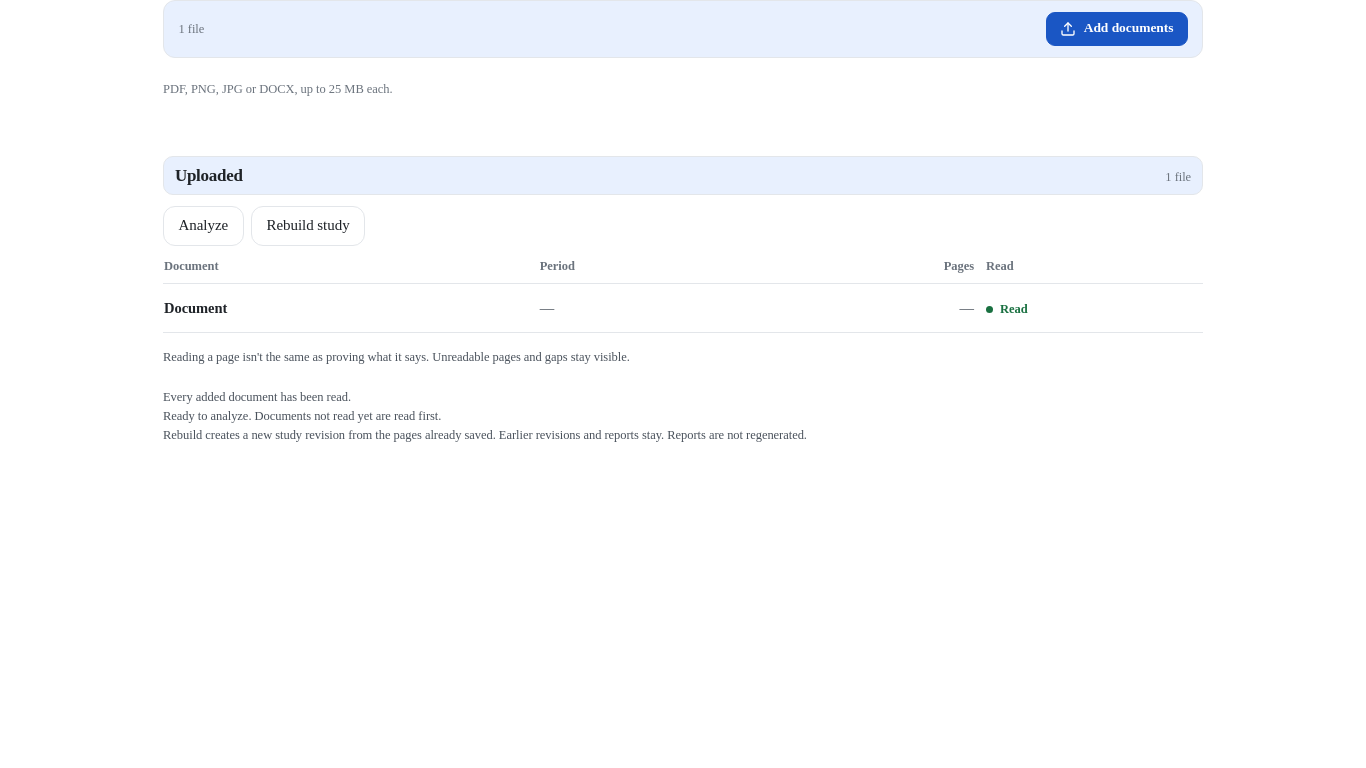
Test: DocumentsPanel — Analyze › reuses the compatible Study, preserves the existing report, and polls only the missing Writer run when one report failed
Expected: the text "Ready to analyze. Documents not read yet are read first." is shown, left=163, top=409, right=441, bottom=423
Click the button with test id "analyze-button": (203, 226) left=163, top=206, right=244, bottom=246
Wait 3000 ms
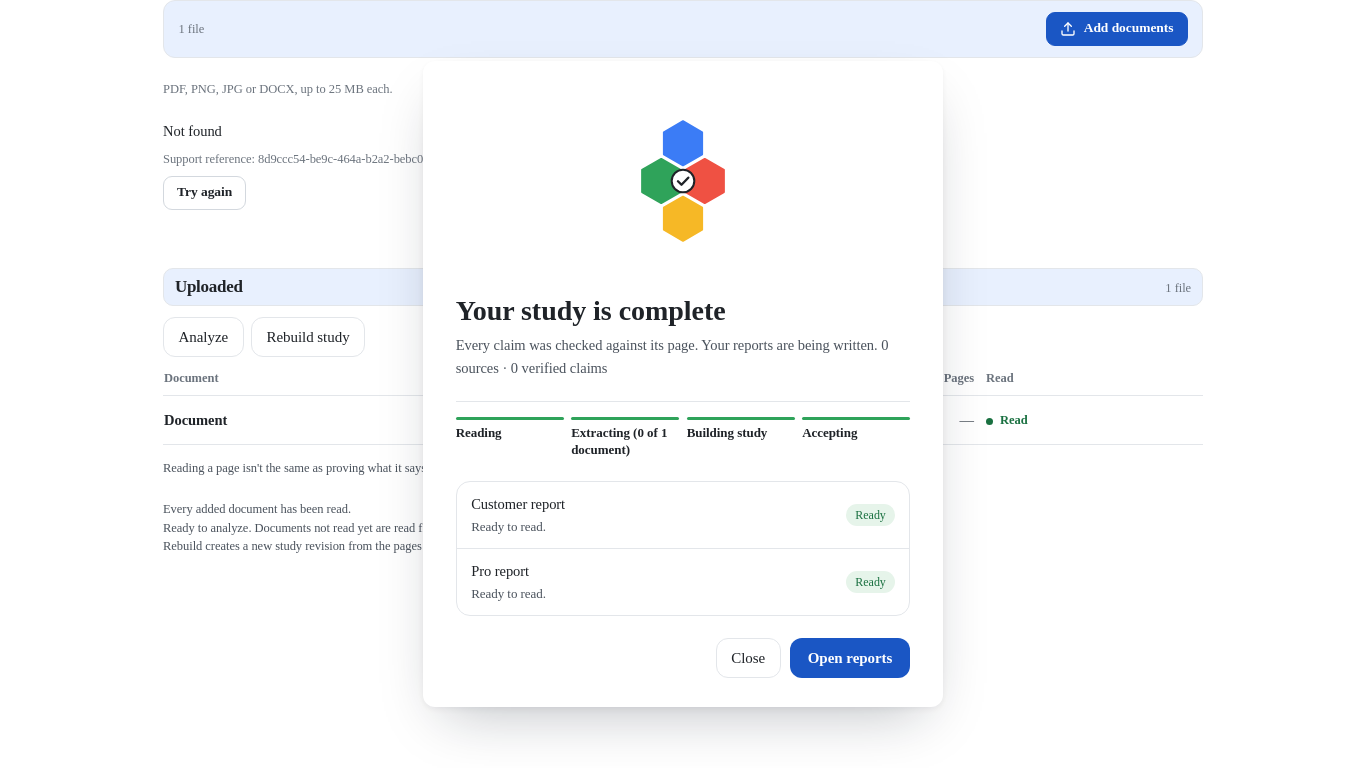
Now the heading "Your study is complete" is shown, box left=456, top=295, right=726, bottom=326
Now the list item "Reading" is shown, box left=456, top=417, right=564, bottom=440
